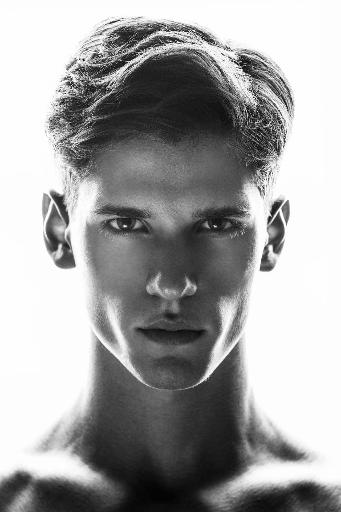left_eye: (189, 215, 248, 239)
left_lip_corner: (194, 323, 212, 344)
right_eye: (103, 215, 153, 239)
right_lip_corner: (132, 320, 152, 342)
